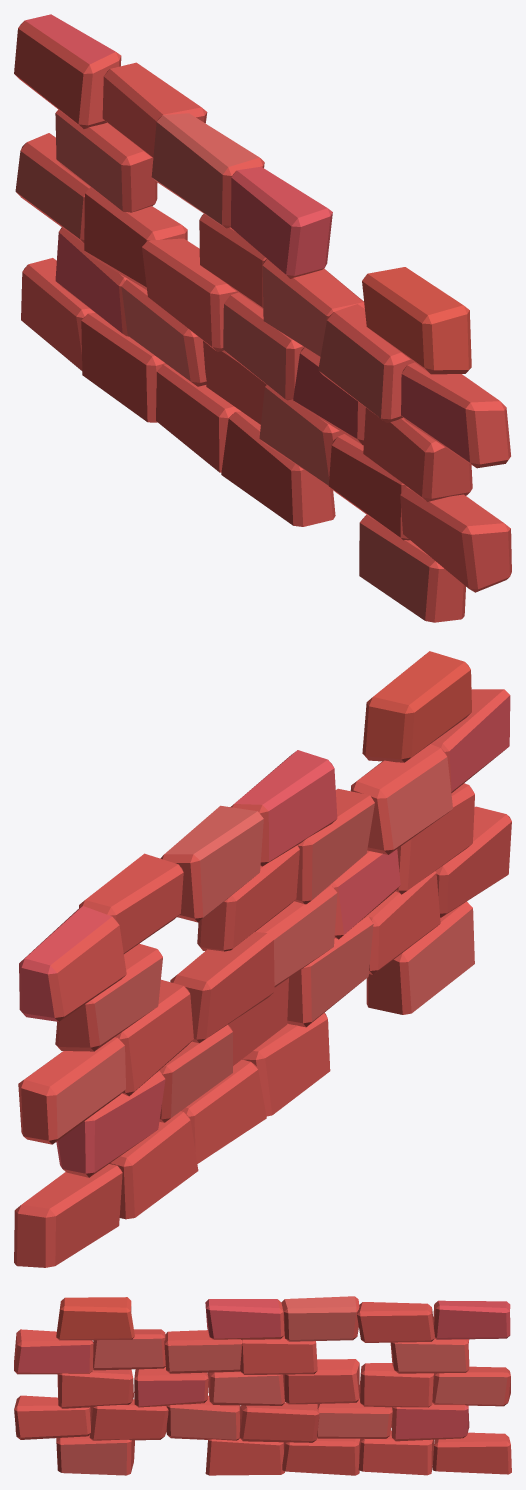
The model's file is walltop.fbx.
The picture shows the model from 3 angles, top to bottom: view 1: azimuth 30°, elevation 25°; view 2: azimuth 150°, elevation 25°; view 3: azimuth 270°, elevation 25°; orthographic projection. The views are drawn at different scales.
Visible parts, largest first — view 1: WallTop; view 2: WallTop; view 3: WallTop.
Part boxes in pixels (x1,y1,x2,y2): WallTop: (14,14,511,622); WallTop: (14,651,511,1267); WallTop: (14,1296,511,1475).
Size of the model in its own units: 120 by 501 by 1325.
